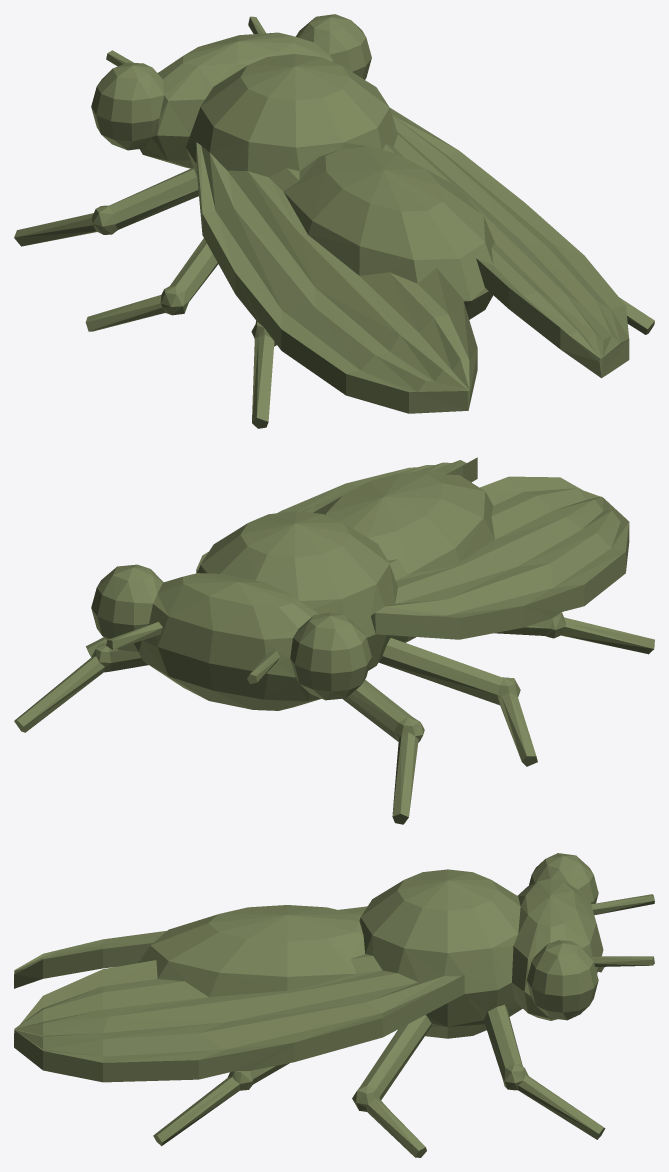
The model's file is NEW_RECOVERY_082_LOD2.fbx.
The picture shows the model from 3 angles, top to bottom: view 1: azimuth 30°, elevation 25°; view 2: azimuth 150°, elevation 25°; view 3: azimuth 270°, elevation 25°; orthographic projection. The views are drawn at different scales.
Visible parts, largest first — view 1: Cicada_whole; view 2: Cicada_whole; view 3: Cicada_whole.
Boxes of the visible parts, <box> form: Cicada_whole: <box>14,14,654,428</box>; Cicada_whole: <box>14,457,654,824</box>; Cicada_whole: <box>14,853,654,1157</box>.
Size of the model in its own units: 196 by 268 by 83.88.
